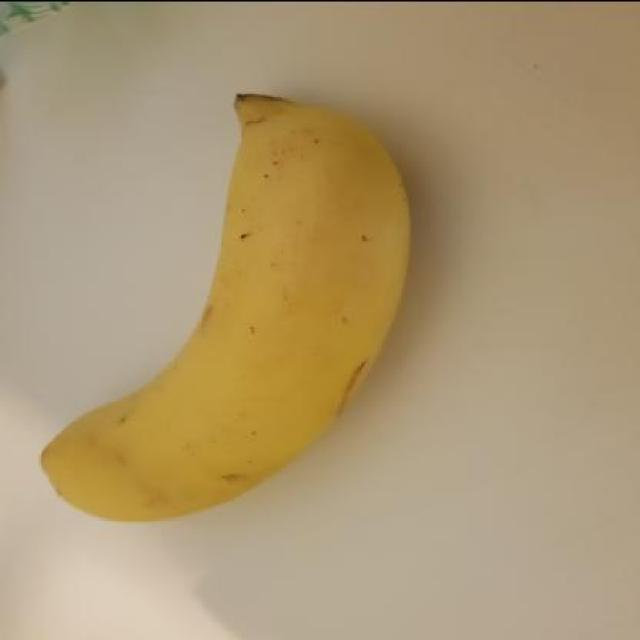banana: (29, 88, 423, 528)
